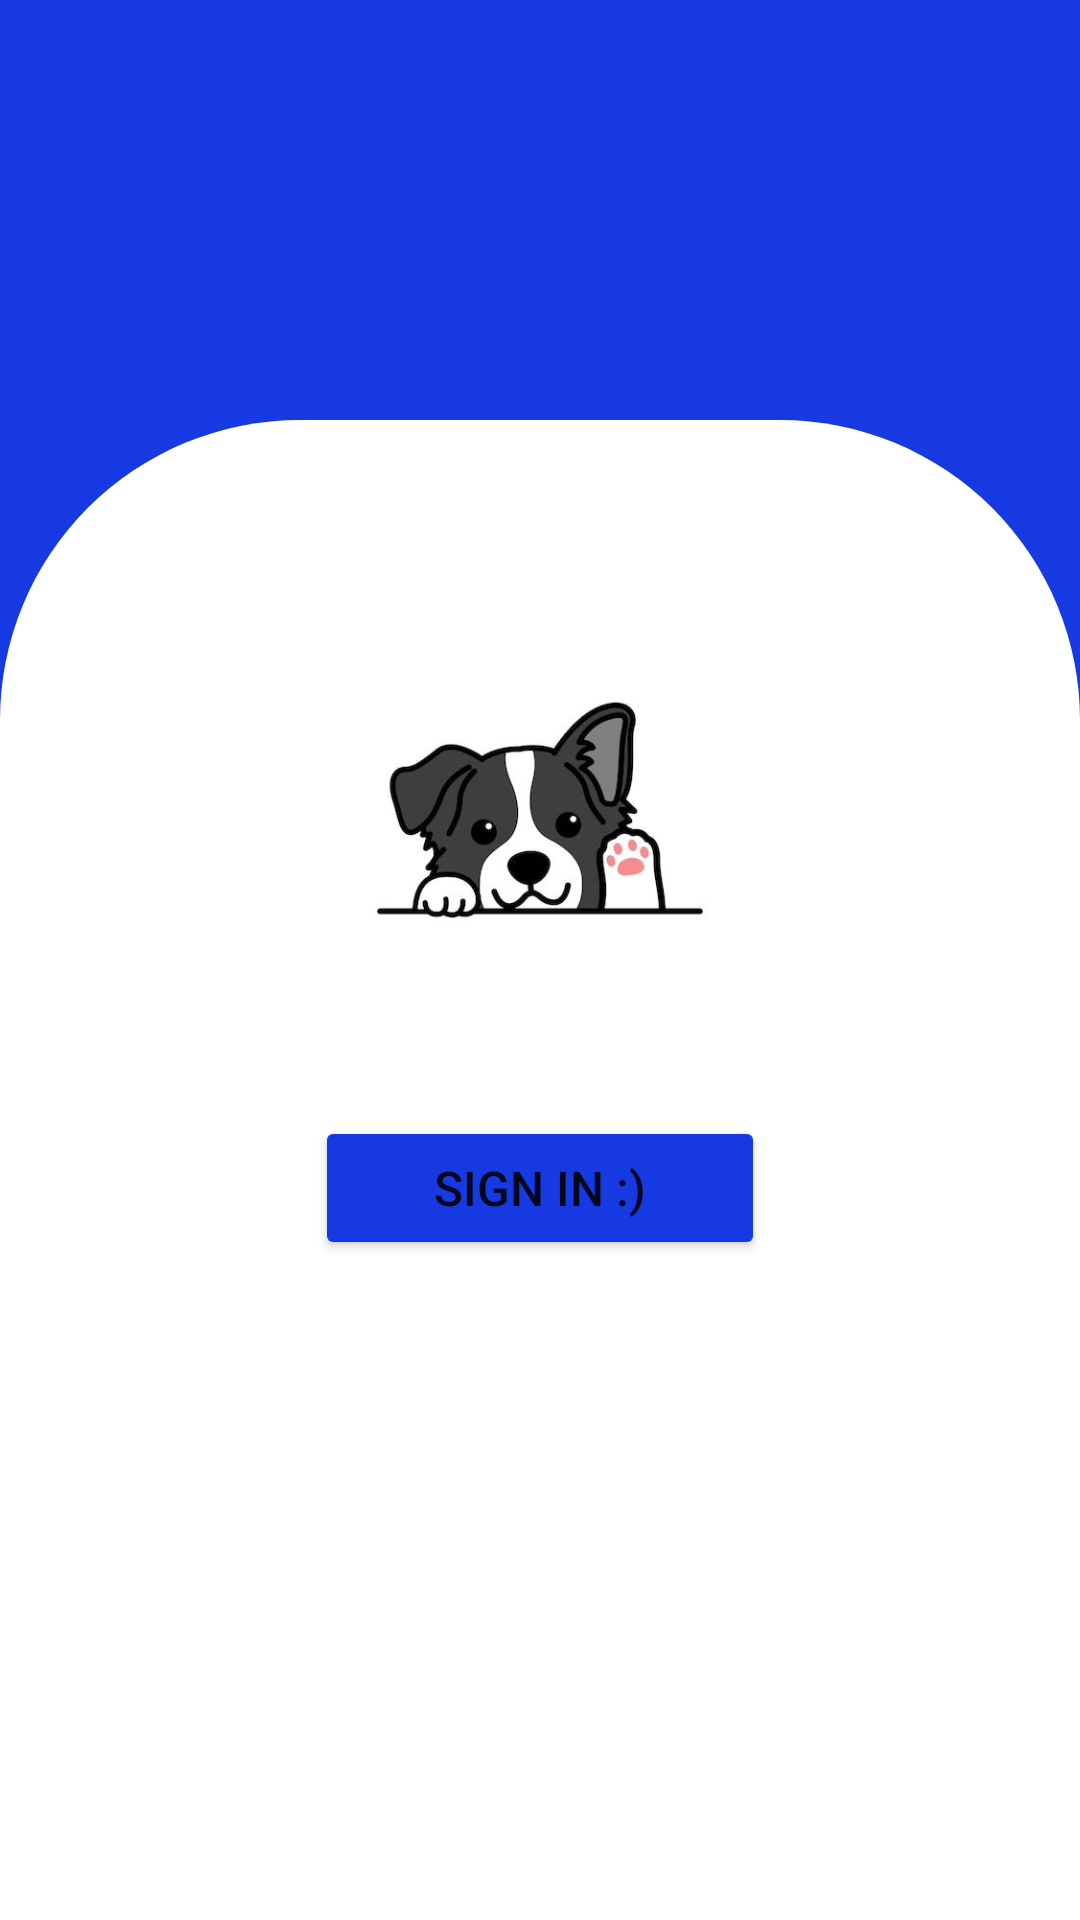

Screen size 1080 x 1920. Icon name, then its center in pixels as (x=x, y=y):
cute: (x=540, y=810)
